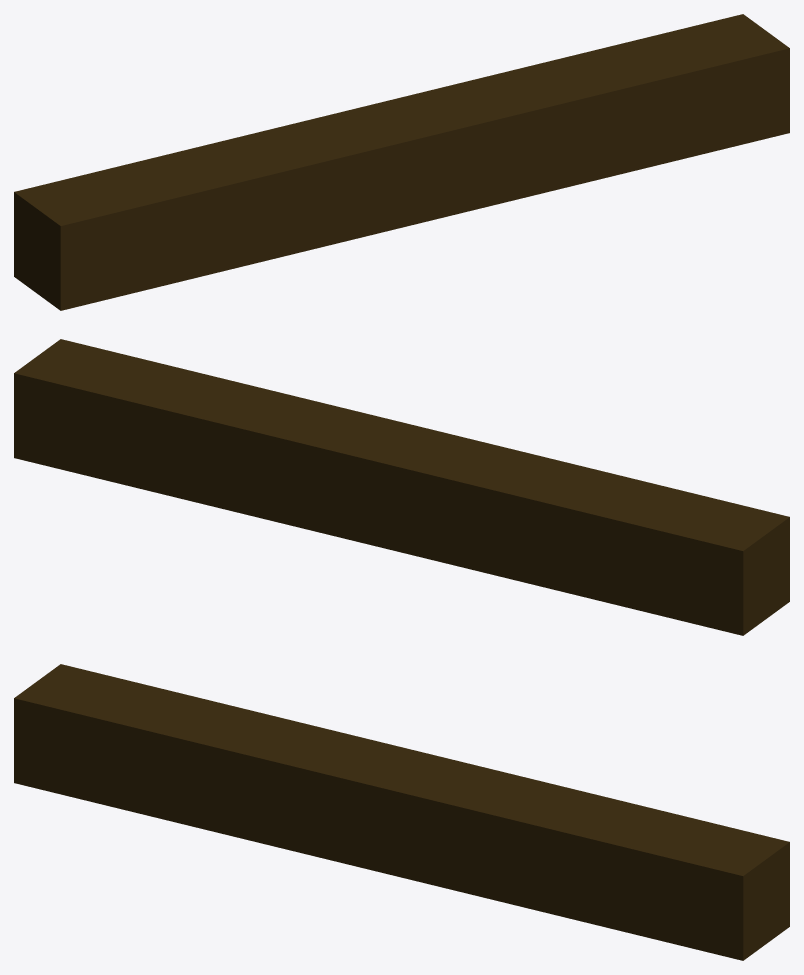
The model's file is greda bocna sredina.FBX.
3 renders of one model, top to bottom at view 1: azimuth 30°, elevation 25°; view 2: azimuth 150°, elevation 25°; view 3: azimuth 330°, elevation 25°, orthographic.
Visible parts, largest first — view 1: temeljna_Srednja_Greda009; view 2: temeljna_Srednja_Greda009; view 3: temeljna_Srednja_Greda009.
Boxes of the visible parts, x1,y1,x2,y2 form: temeljna_Srednja_Greda009: (14,14,789,310); temeljna_Srednja_Greda009: (14,339,789,635); temeljna_Srednja_Greda009: (14,664,789,960).
Size of the model in its own units: 180 by 20 by 20.
